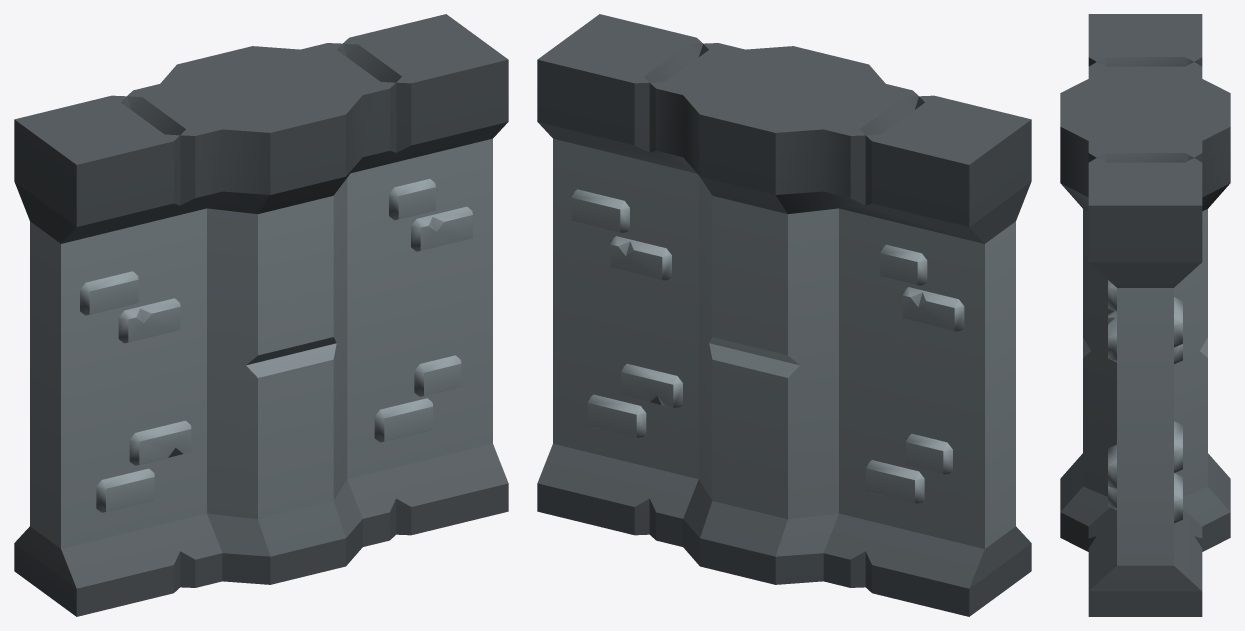
Rendered from wall_pillar.obj.
The picture shows the model from 3 angles, left to right: view 1: azimuth 30°, elevation 25°; view 2: azimuth 150°, elevation 25°; view 3: azimuth 270°, elevation 25°; orthographic projection. The views are drawn at different scales.
Visible parts, largest first — view 1: wall_pillar; view 2: wall_pillar; view 3: wall_pillar.
Part boxes in pixels (left/top/right/bottom): wall_pillar: left=14, top=14, right=508, bottom=616; wall_pillar: left=537, top=14, right=1031, bottom=616; wall_pillar: left=1060, top=14, right=1230, bottom=616.
Bounding box in the file's own units: 4 × 4 × 1.5.
Materials: 1 (1 with a texture image).
